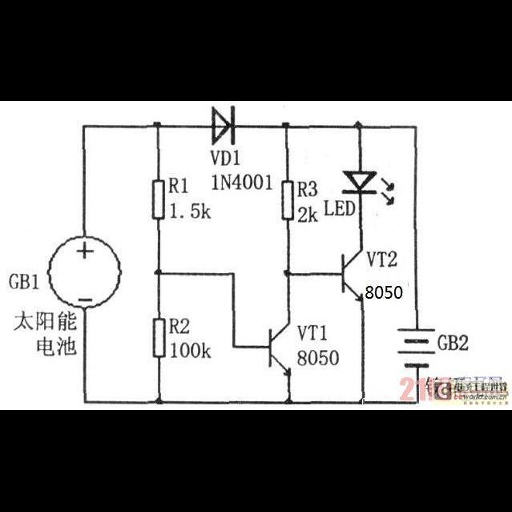battery: (388, 324, 438, 371)
firstresistance: (274, 177, 297, 222), (147, 314, 168, 361), (149, 176, 166, 224)
npn: (330, 246, 366, 307), (261, 320, 296, 378)
seconddiode: (204, 103, 247, 149)
secondled: (337, 165, 398, 204)
